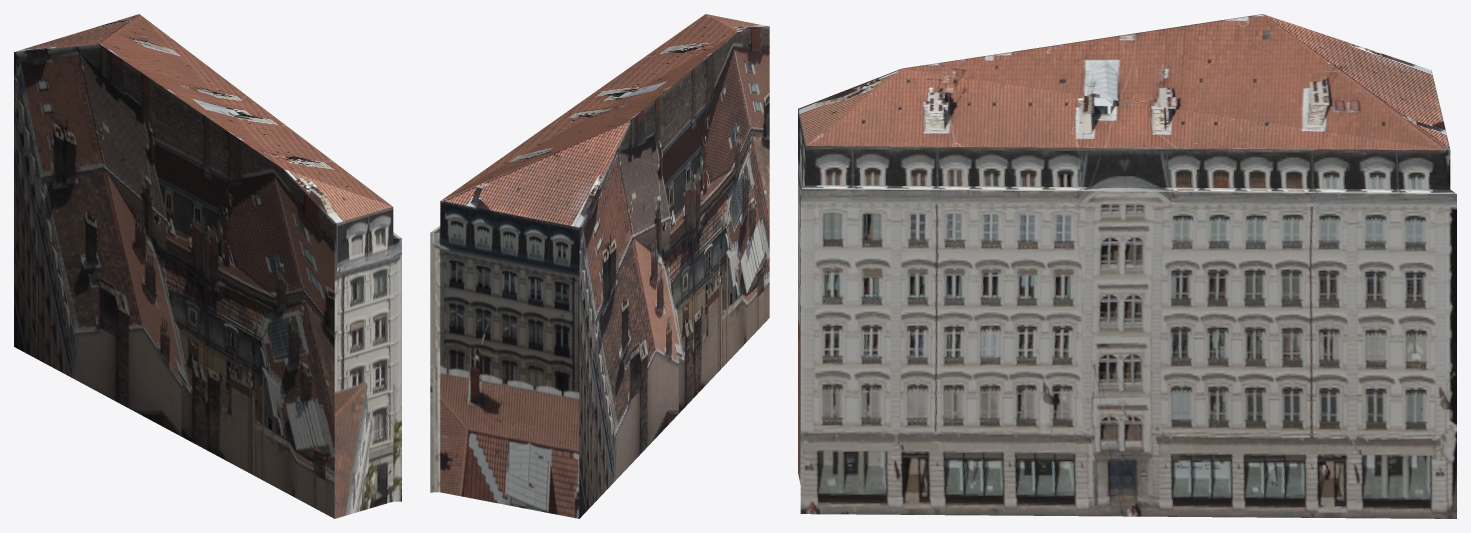
The picture shows the model from 3 angles, left to right: view 1: azimuth 30°, elevation 25°; view 2: azimuth 150°, elevation 25°; view 3: azimuth 270°, elevation 25°; orthographic projection. The views are drawn at different scales.
Visible parts, largest first — view 1: Z_UP; view 2: Z_UP; view 3: Z_UP.
Part boxes in pixels (left/top/right/bottom): Z_UP: left=14, top=14, right=401, bottom=518; Z_UP: left=430, top=14, right=769, bottom=518; Z_UP: left=798, top=14, right=1456, bottom=518.
Bounding box in the file's own units: 11.74 × 27.81 × 38.58.
Materials: 2 (1 with a texture image).
